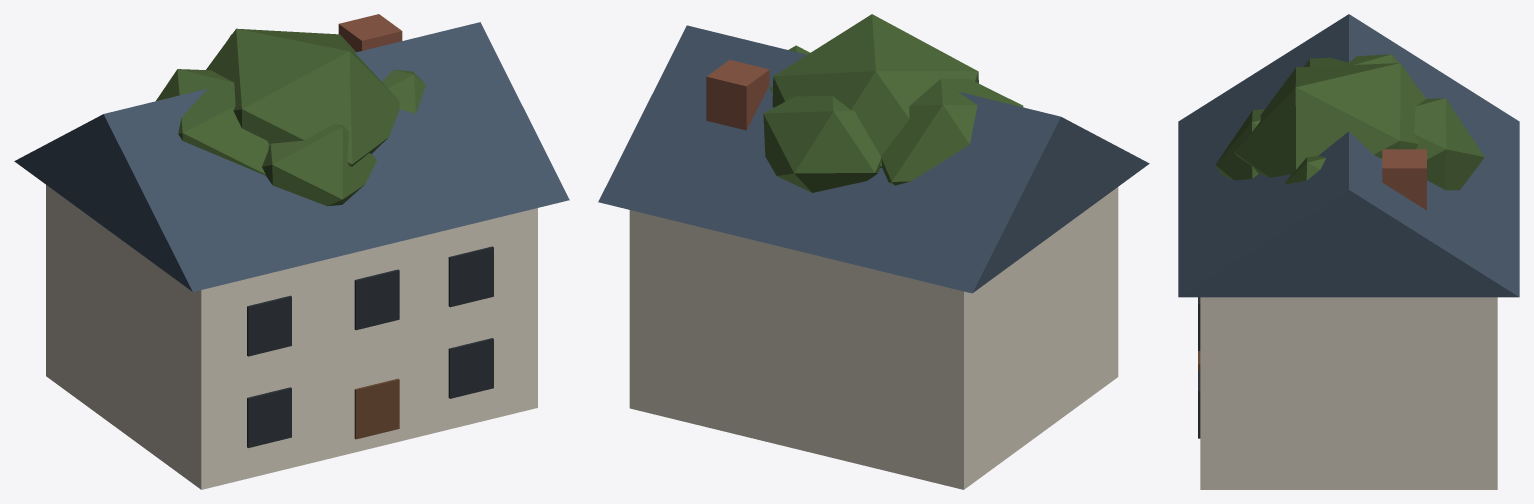
Rendered from house.glb.
The picture shows the model from 3 angles, left to right: view 1: azimuth 30°, elevation 25°; view 2: azimuth 150°, elevation 25°; view 3: azimuth 270°, elevation 25°; orthographic projection. The views are drawn at different scales.
Parts seen in each view (by area): view 1: house-far, tree-far; view 2: house-far, tree-far; view 3: house-far, tree-far.
Boxes of the visible parts, box(x1,y1,x2,y2) form: house-far: box(14, 14, 569, 489); tree-far: box(156, 28, 425, 206); house-far: box(598, 25, 1149, 489); tree-far: box(763, 14, 1023, 192); house-far: box(1178, 14, 1519, 489); tree-far: box(1215, 54, 1484, 190).
Bounding box in the file's own units: 11.2 × 10.85 × 9.2.
